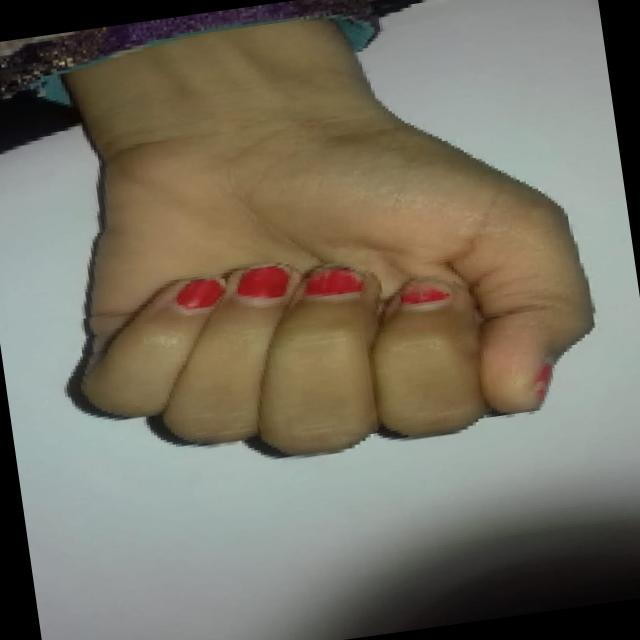Nail: (237, 266, 290, 299), (175, 277, 224, 310), (306, 267, 363, 295), (400, 282, 451, 306), (534, 362, 554, 407)
